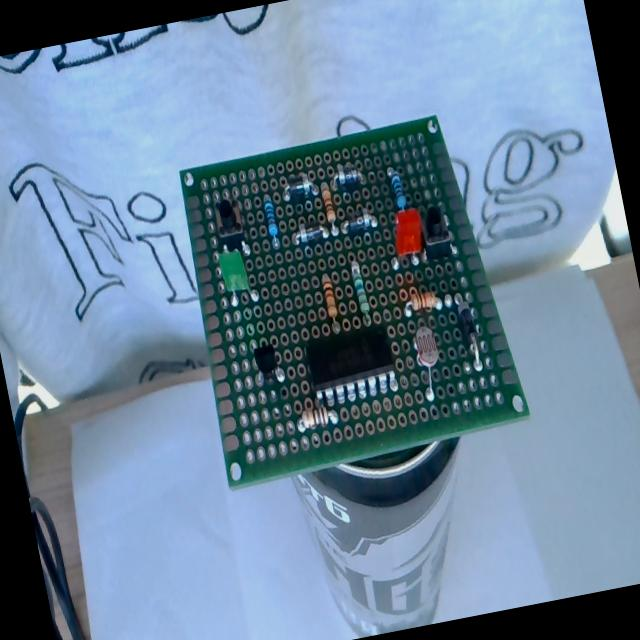IC: (298, 322, 411, 413)
cds: (408, 324, 449, 406)
diode: (453, 286, 493, 384), (328, 157, 376, 195), (338, 205, 386, 241), (288, 216, 332, 253), (276, 173, 322, 208)
led: (378, 208, 431, 278), (214, 248, 262, 314)
resistor: (344, 254, 383, 331), (292, 398, 346, 444), (398, 282, 448, 324), (316, 265, 345, 333), (260, 186, 288, 254), (320, 170, 344, 247), (384, 165, 416, 212)
switch: (203, 187, 257, 256), (418, 202, 468, 270)
transistor: (239, 339, 292, 400)
